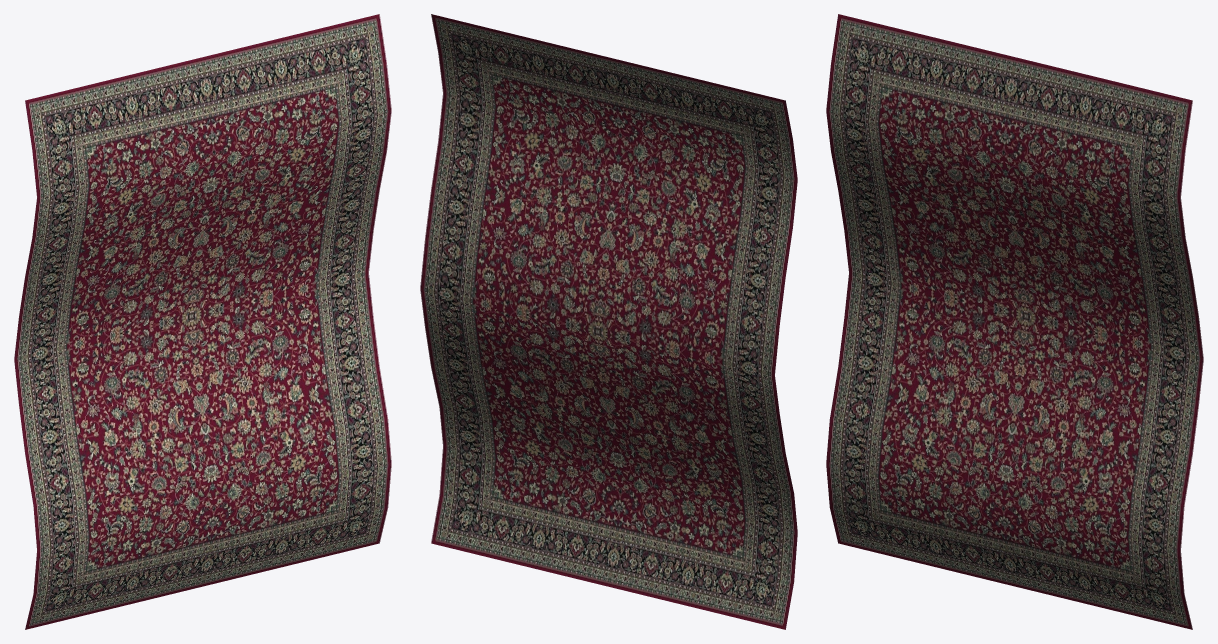
Rendered from cloth.obj.
The picture shows the model from 3 angles, left to right: view 1: azimuth 30°, elevation 25°; view 2: azimuth 150°, elevation 25°; view 3: azimuth 330°, elevation 25°; orthographic projection.
Bounding box in the file's own units: 6.96 × 9.93 × 0.7776.
Materials: 1 (1 with a texture image).
